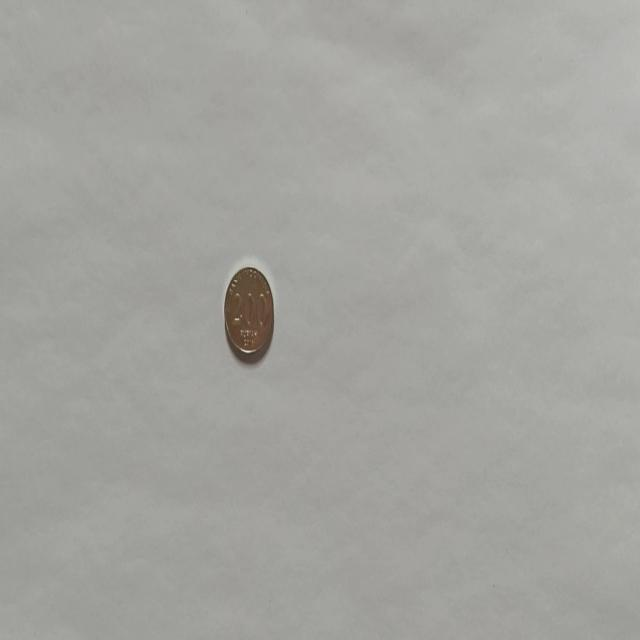dua ratus rupiah: (222, 263, 274, 359)
